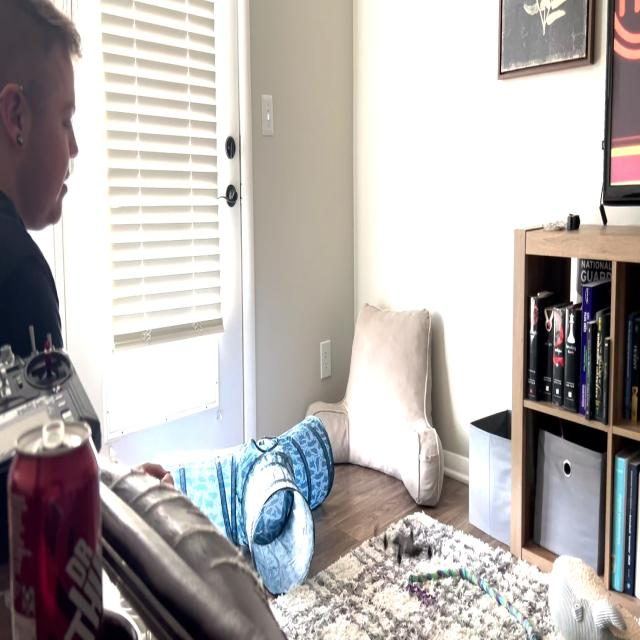drone: (368, 508, 436, 577)
